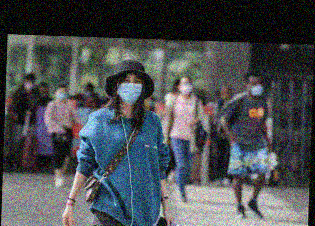with_mask: (116, 75, 144, 104), (249, 79, 265, 98), (177, 80, 193, 97), (55, 88, 70, 102), (24, 78, 35, 91)
